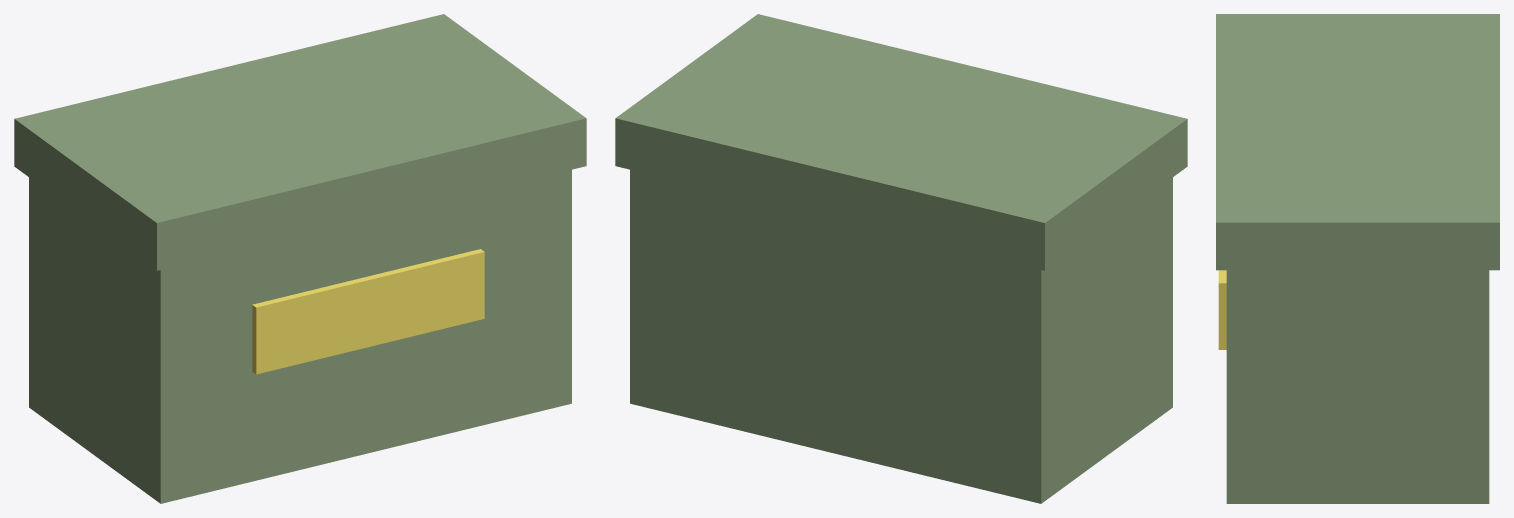
Rendered from ammo_box.glb.
3 views of the same model, side by side, from view 1: azimuth 30°, elevation 25°; view 2: azimuth 150°, elevation 25°; view 3: azimuth 270°, elevation 25° (orthographic).
Visible parts, largest first — view 1: AmmoBox, Lid; view 2: AmmoBox, Lid; view 3: Lid, AmmoBox.
Part boxes in pixels (x1,y1,x2,y2): AmmoBox: (29,169,571,503); Lid: (14,14,586,270); AmmoBox: (630,169,1172,503); Lid: (615,14,1187,270); Lid: (1216,14,1499,270); AmmoBox: (1218,270,1489,503).
Size of the model in its own units: 0.94 by 0.6 by 0.54.
